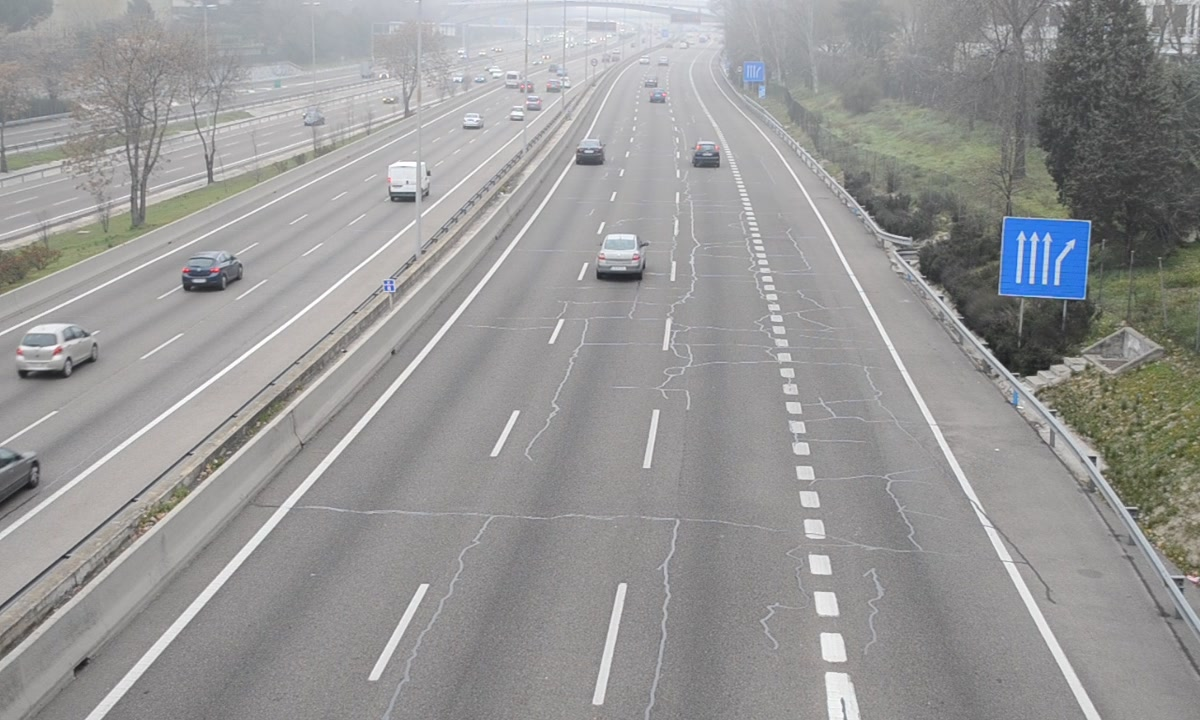car: (598, 234, 644, 280), (692, 141, 721, 169), (575, 139, 604, 166)
